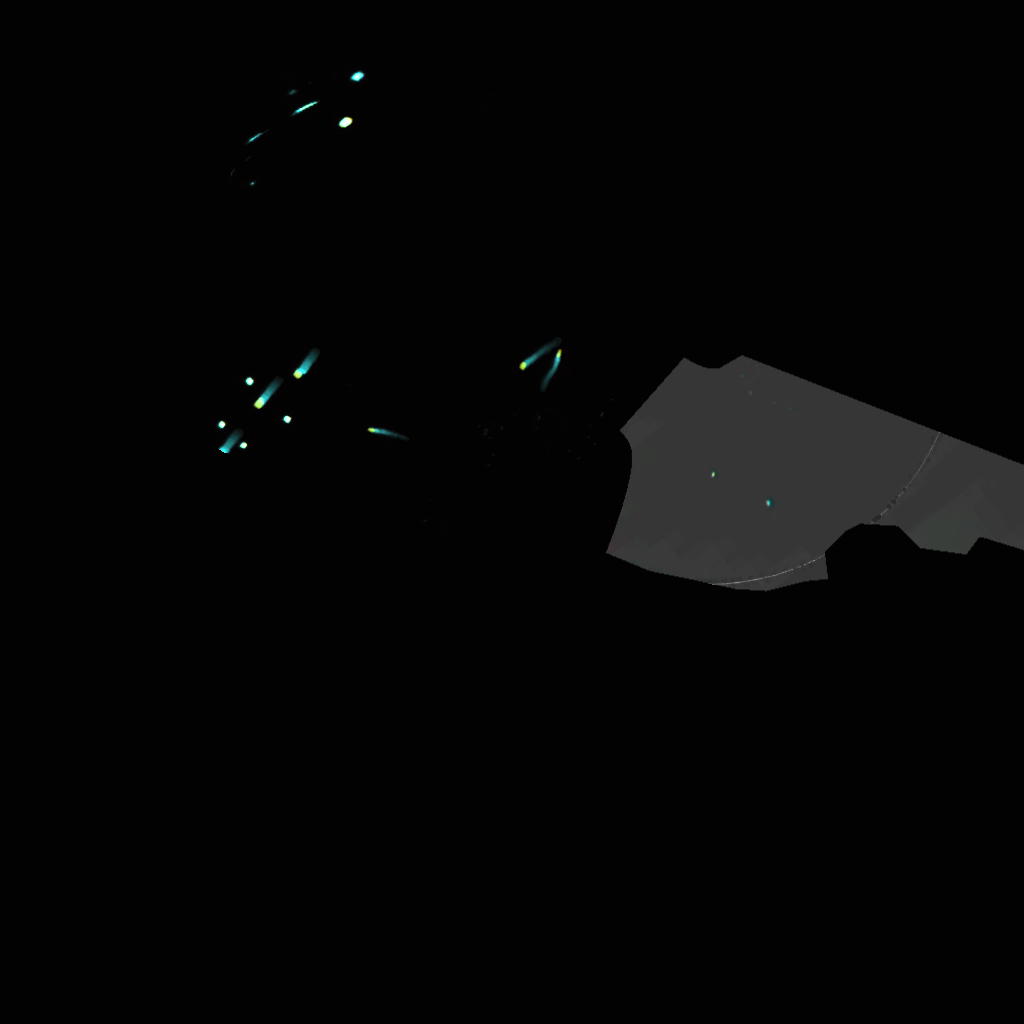B: (367, 421, 408, 444), (217, 430, 246, 454), (255, 380, 279, 407), (295, 352, 317, 380), (515, 350, 548, 367), (552, 346, 567, 380)
